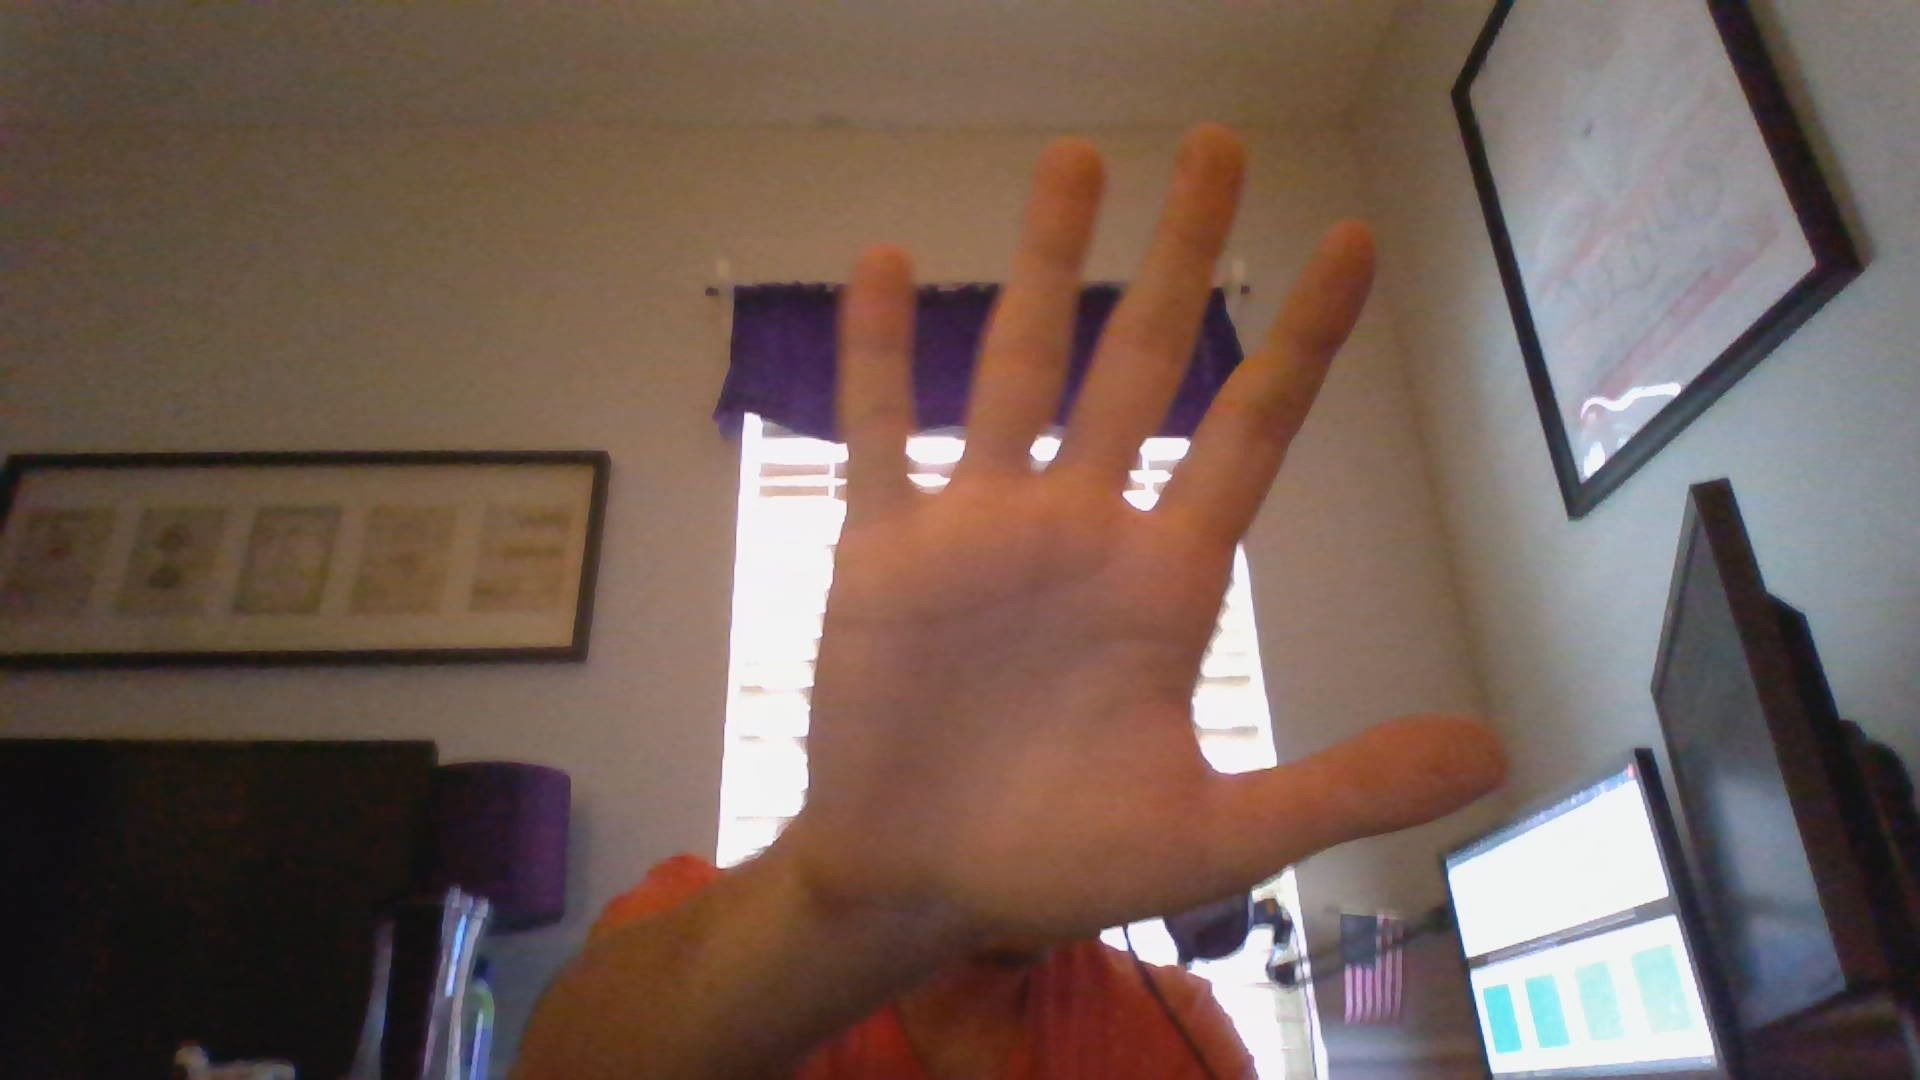Right Palm Up: (796, 113, 1516, 951)
